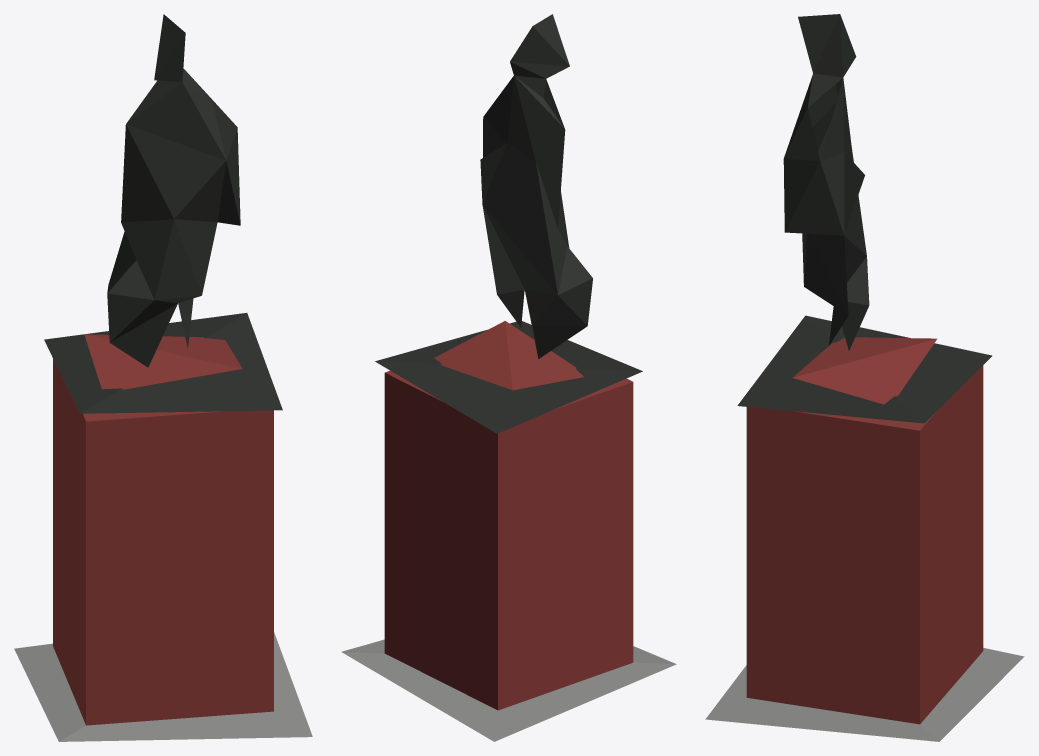
File: anne-frank-merwedeplein.lod2.glb
3 views of the same model, side by side, from view 1: azimuth 30°, elevation 25°; view 2: azimuth 150°, elevation 25°; view 3: azimuth 270°, elevation 25° (orthographic). The views are drawn at different scales.
Parts seen in each view (by area): view 1: lod2; view 2: lod2; view 3: lod2.
Boxes of the visible parts, <box> form: lod2: <box>14,14,312,741</box>; lod2: <box>341,14,676,741</box>; lod2: <box>705,14,1024,741</box>.
Bounding box in the file's own units: 1.28 × 2.96 × 1.28.
